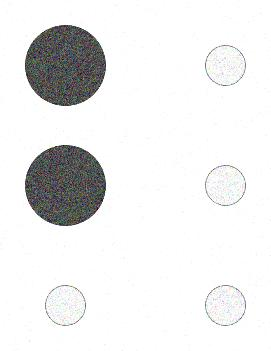B: (20, 18, 254, 336)
